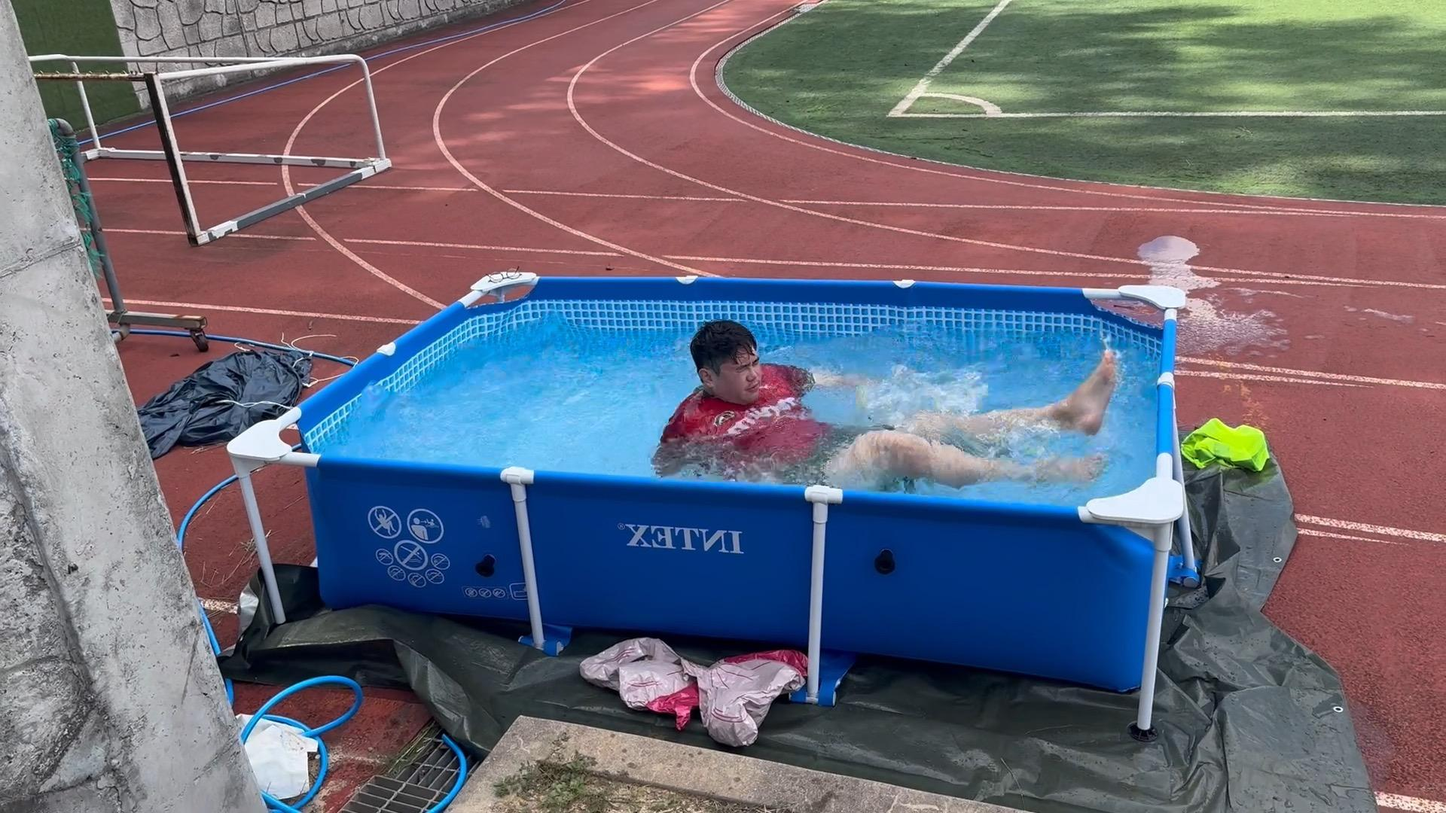Drowning: (640, 288, 1127, 506)
